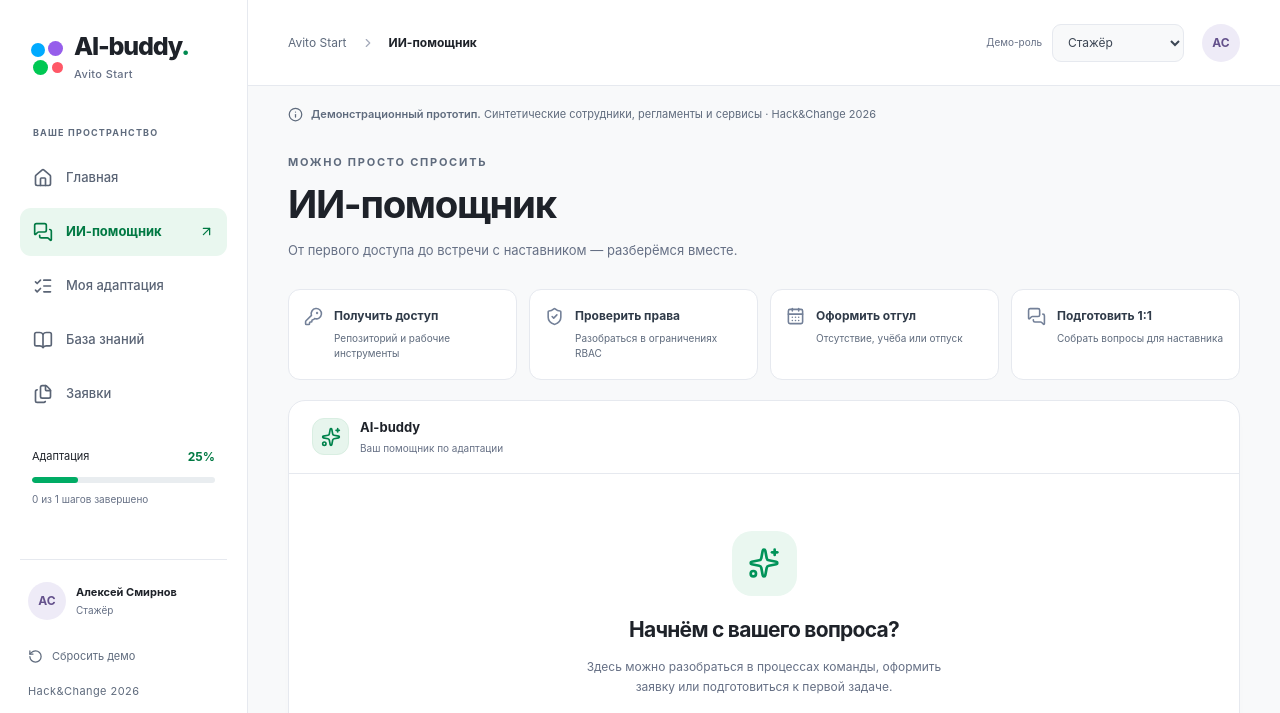
it: Application routes and backend integration › shows the server error for send without applying success state
Click the text "Оформить отгул" at (866, 315), box [816,308,916,323]
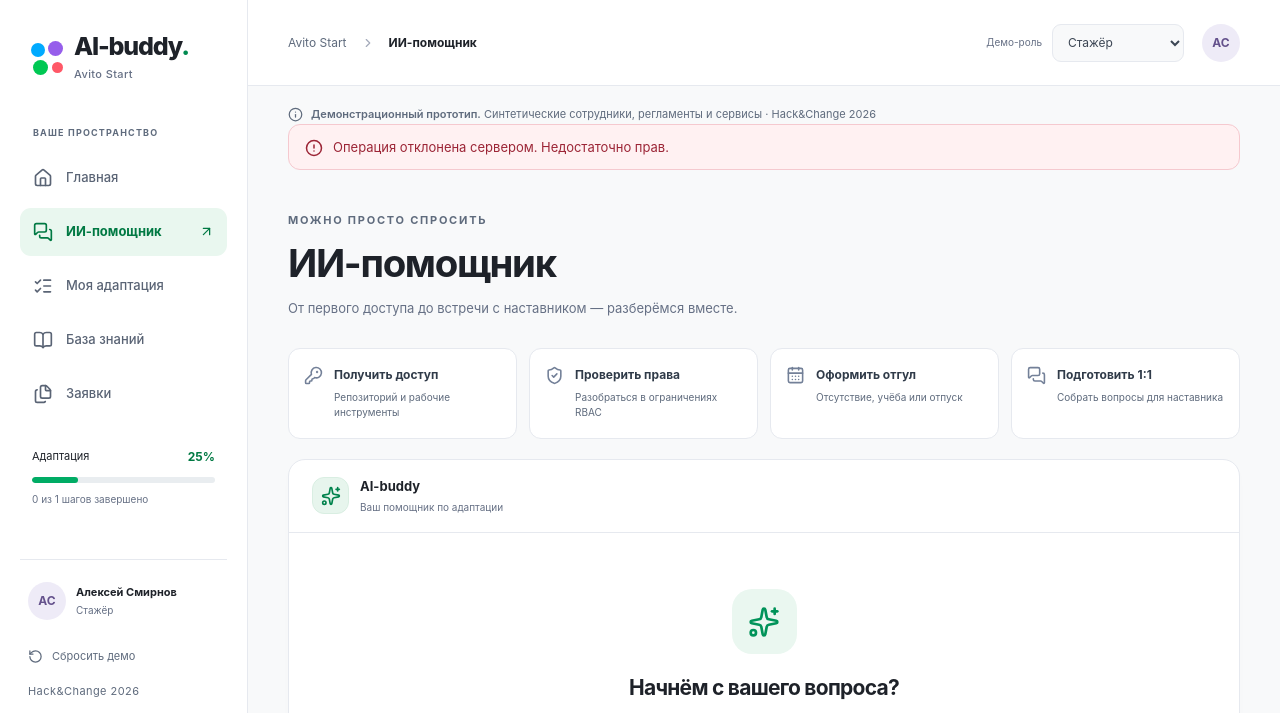
Expected: the message shows "Операция отклонена сервером", [333,139,669,155]
